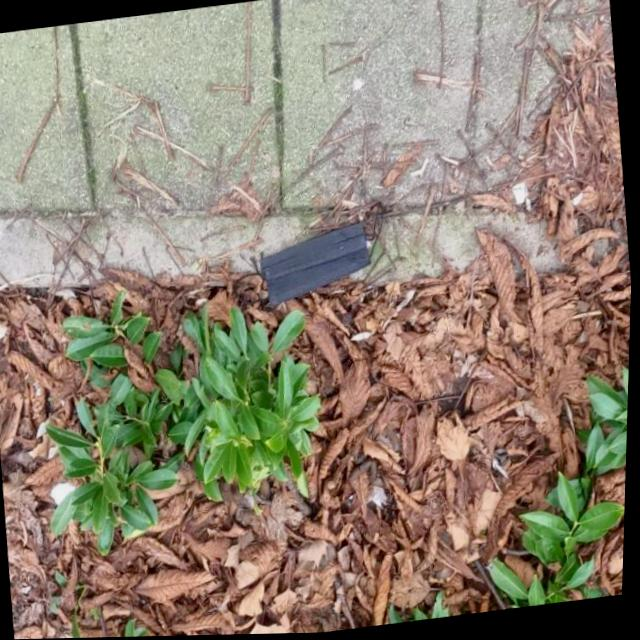Mask: (226, 202, 391, 317)
